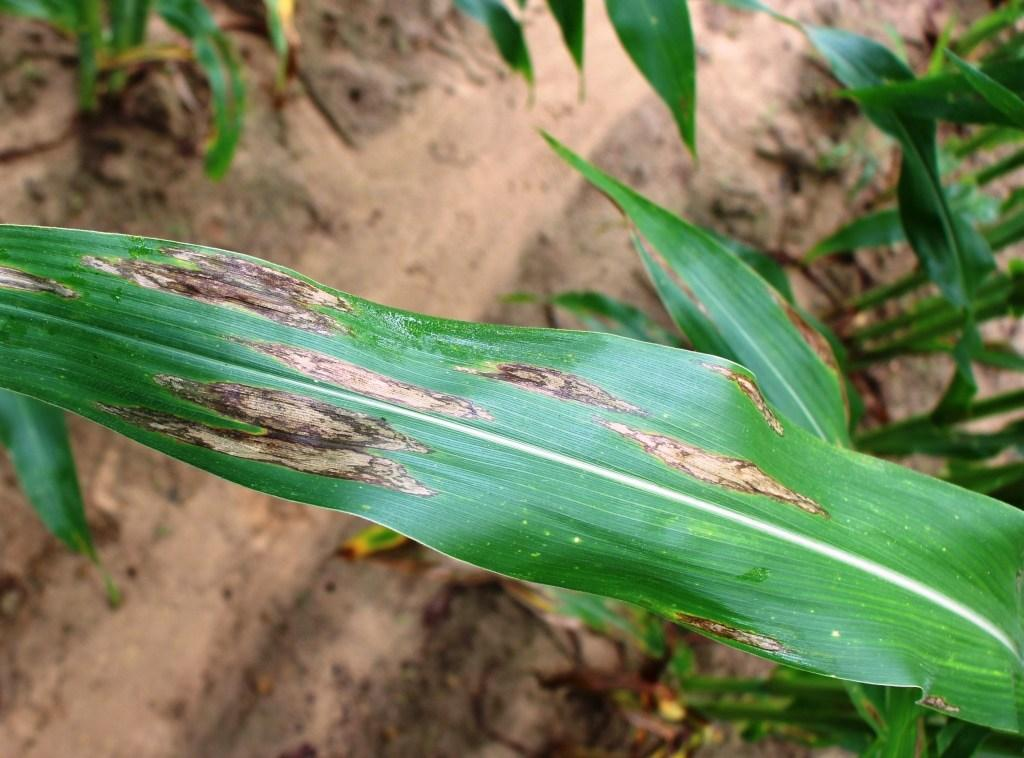Corn leaf blight: (8, 216, 1023, 723), (541, 127, 870, 447)
